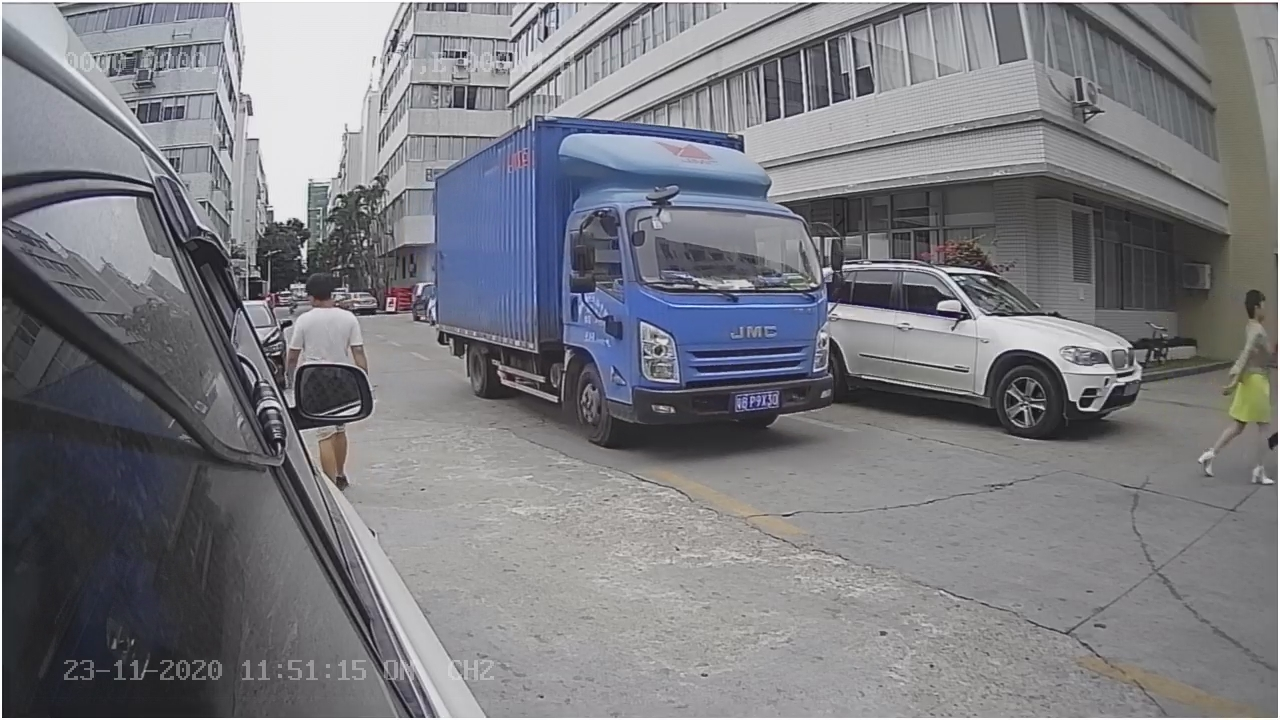person: (1195, 279, 1280, 489)
